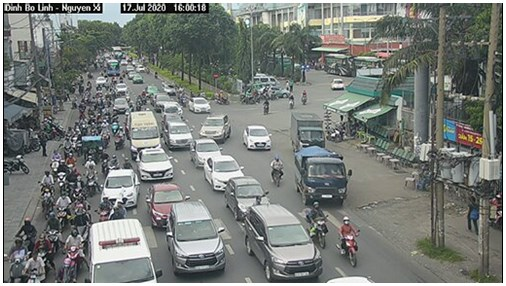xe_cuu_thuong: (86, 218, 161, 283)
xe_hoi: (244, 203, 325, 280), (167, 202, 227, 275), (225, 175, 269, 221), (146, 180, 185, 229), (100, 158, 139, 207), (201, 152, 245, 192), (135, 148, 173, 182), (187, 138, 222, 167), (241, 123, 276, 152), (198, 115, 233, 144), (188, 95, 211, 113)
xe_khach: (128, 110, 164, 160), (163, 117, 194, 151)
xe_may: (336, 216, 360, 267), (6, 237, 31, 283), (304, 201, 329, 247), (61, 226, 86, 272), (42, 211, 61, 252), (26, 250, 46, 283), (18, 215, 37, 245), (55, 257, 75, 283), (84, 163, 99, 196), (269, 155, 284, 188), (40, 181, 54, 212), (55, 193, 69, 224), (97, 196, 112, 223), (112, 126, 125, 150), (260, 97, 273, 117)
xe_tai: (292, 147, 352, 204), (288, 110, 325, 151)
